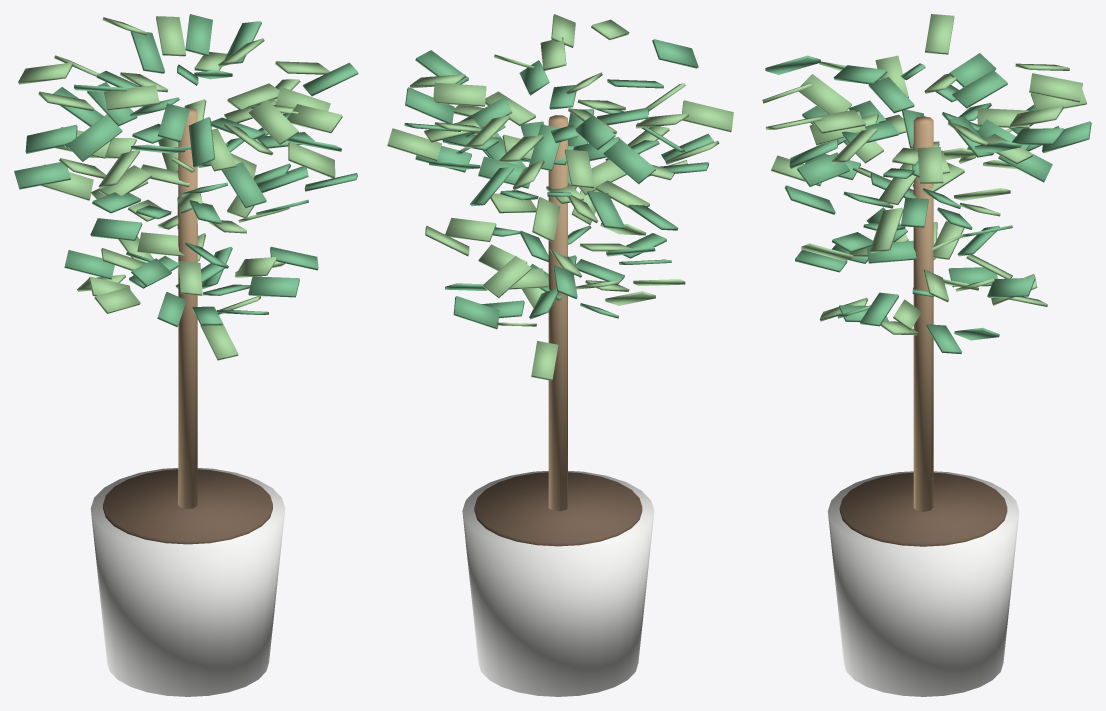
The model's file is SM_PlantTall.fbx.
The picture shows the model from 3 angles, left to right: view 1: azimuth 30°, elevation 25°; view 2: azimuth 150°, elevation 25°; view 3: azimuth 270°, elevation 25°; orthographic projection.
Visible parts, largest first — view 1: SM_PlantTall; view 2: SM_PlantTall; view 3: SM_PlantTall.
Boxes of the visible parts, x1=… form: SM_PlantTall: x1=14, y1=14, x2=358, y2=696; SM_PlantTall: x1=387, y1=14, x2=733, y2=696; SM_PlantTall: x1=762, y1=14, x2=1091, y2=696.
Size of the model in its own units: 0.8513 by 1.63 by 0.8247.
